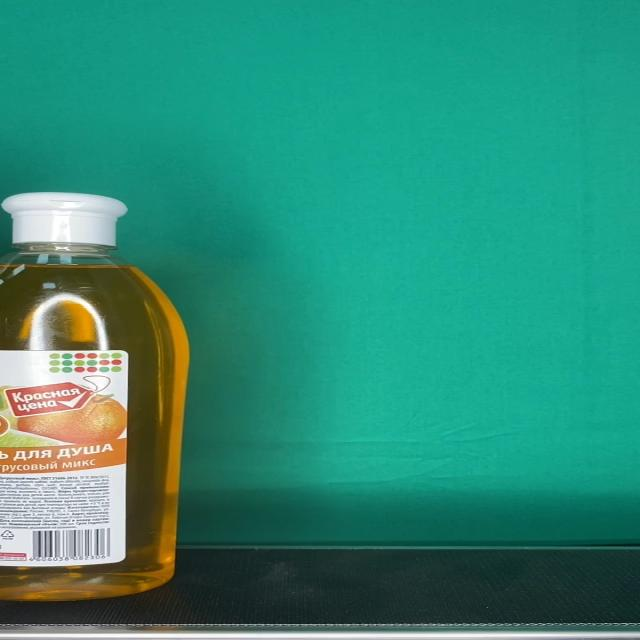Bottle: (0, 190, 189, 601)
Cap: (1, 192, 127, 245)
